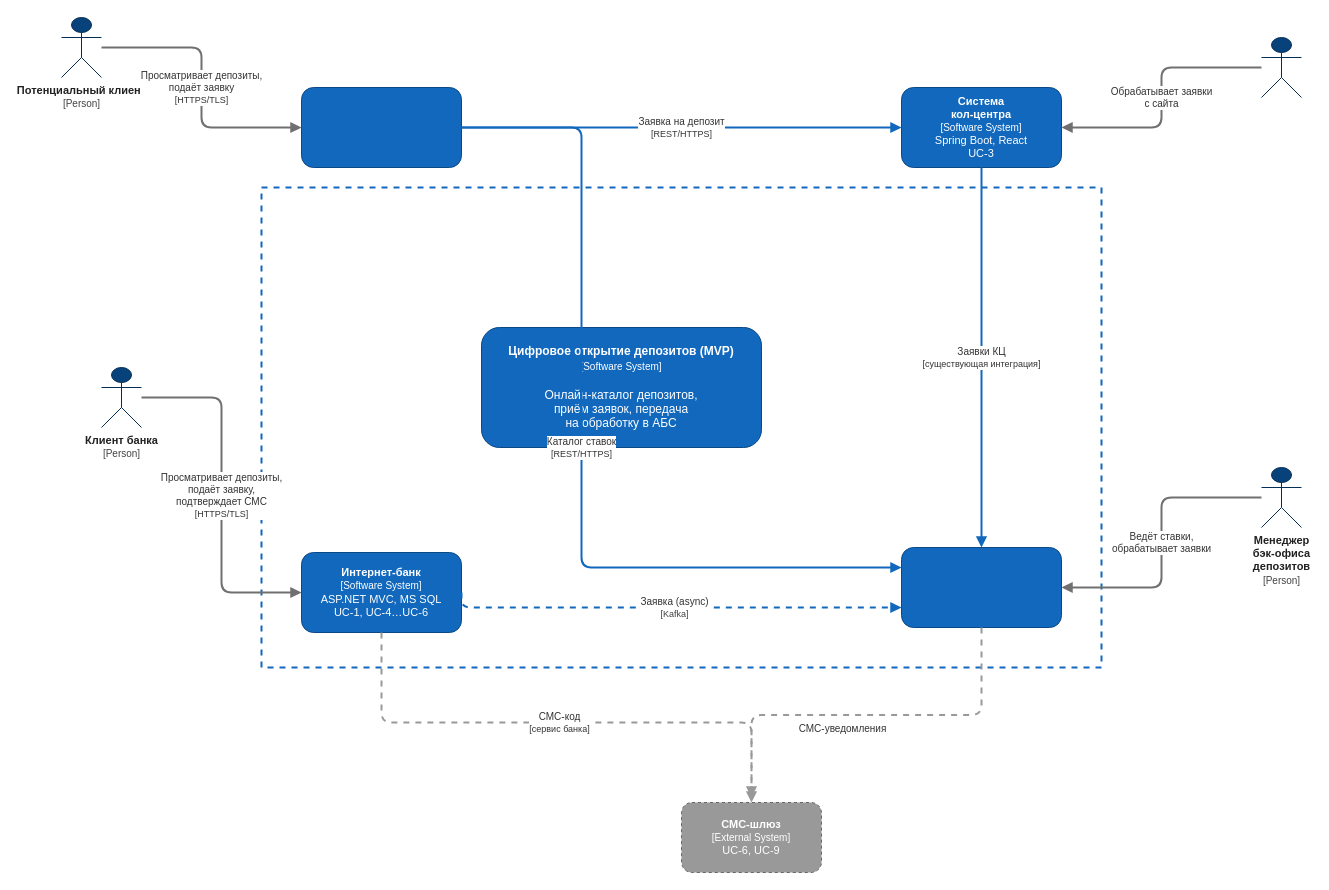
Image size: 1329x890. Some labels were removed from this diagram. Here are the shapes that lost their labels. From the top down, the centre of each, then its label:
pixel 1281 67: Оператор кол-центра [Person]
pixel 381 127: Сайт банка [Software System] PHP, React.js UC-1, UC-2
pixel 981 587: АБС [Software System] Delphi, Oracle UC-7, UC-8, UC-9
